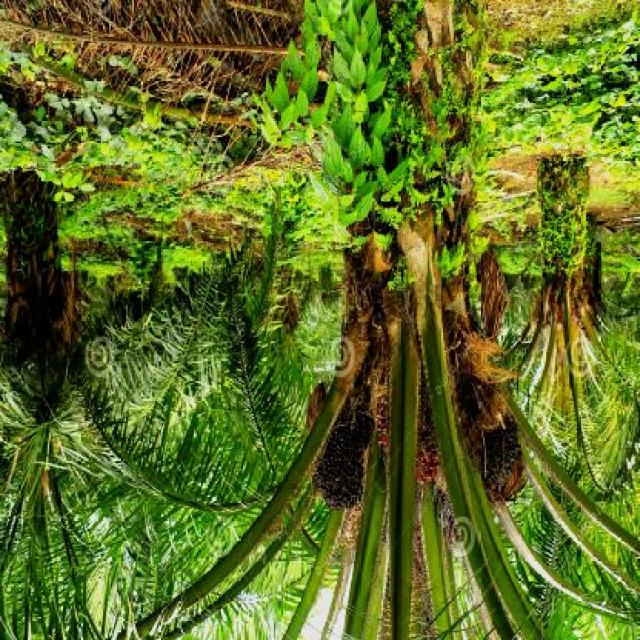palm-oil: (311, 419, 368, 522), (376, 387, 440, 478), (477, 417, 534, 503)
